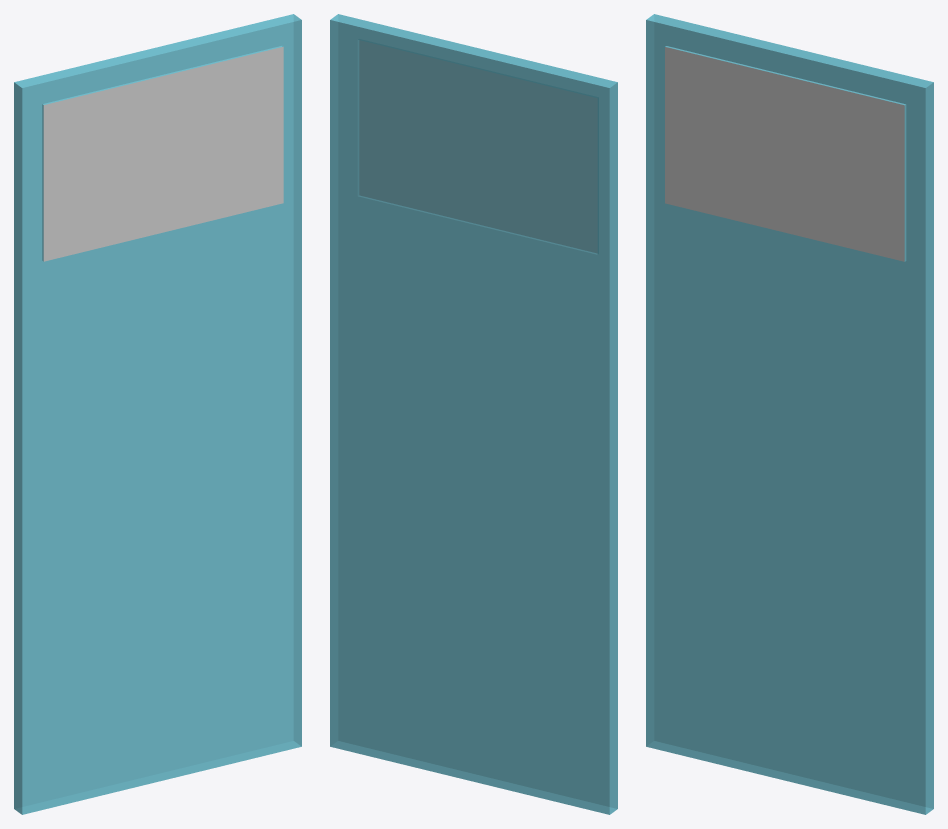
The model's file is indicator.fbx.
The picture shows the model from 3 angles, left to right: view 1: azimuth 30°, elevation 25°; view 2: azimuth 150°, elevation 25°; view 3: azimuth 330°, elevation 25°; orthographic projection.
Visible parts, largest first — view 1: Model; view 2: Model; view 3: Model.
Part boxes in pixels (x1,y1,x2,y2): Model: [14, 14, 301, 814]; Model: [330, 14, 617, 814]; Model: [646, 14, 933, 814].
Size of the model in its own units: 60 by 149 by 3.5.
